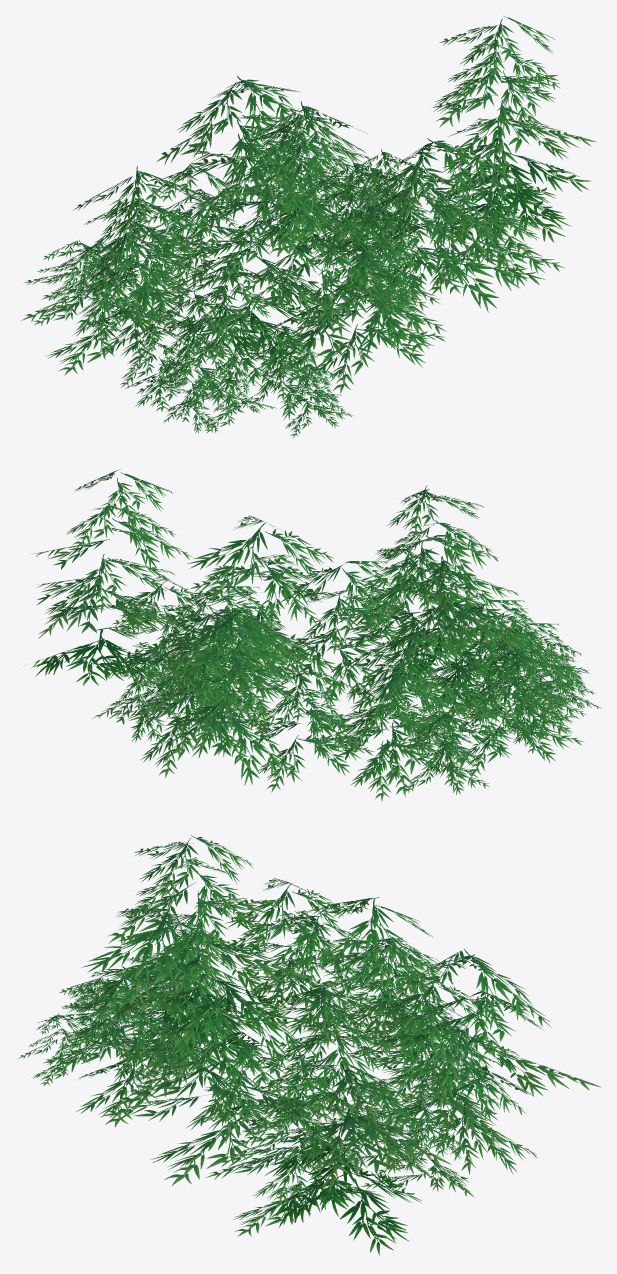
File: Area_11_24.fbx
The picture shows the model from 3 angles, top to bottom: view 1: azimuth 30°, elevation 25°; view 2: azimuth 150°, elevation 25°; view 3: azimuth 270°, elevation 25°; orthographic projection. The views are drawn at different scales.
Parts seen in each view (by area): view 1: Area_11_24; view 2: Area_11_24; view 3: Area_11_24.
Part boxes in pixels (<box>): Area_11_24: <box>21,16,596,438</box>; Area_11_24: <box>32,468,601,801</box>; Area_11_24: <box>18,835,600,1255</box>.
Size of the model in its own units: 4551 by 1844 by 3695.
